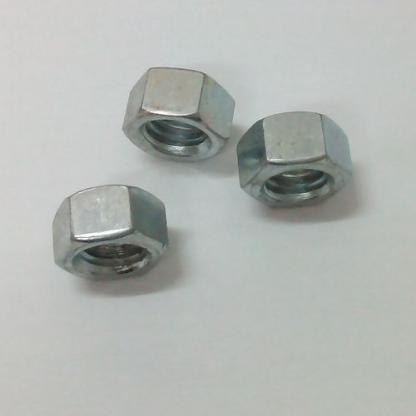FOD: (117, 65, 240, 165), (234, 109, 355, 210), (49, 183, 171, 283)
